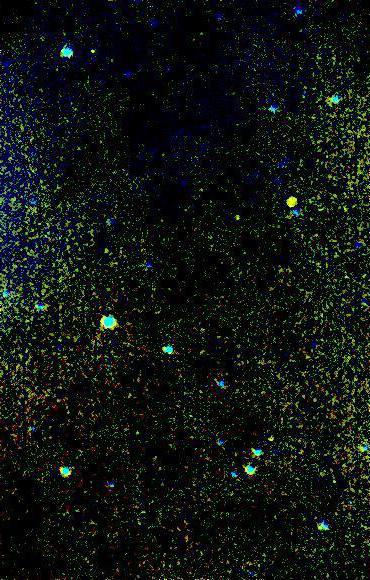star: (278, 187, 308, 217)
